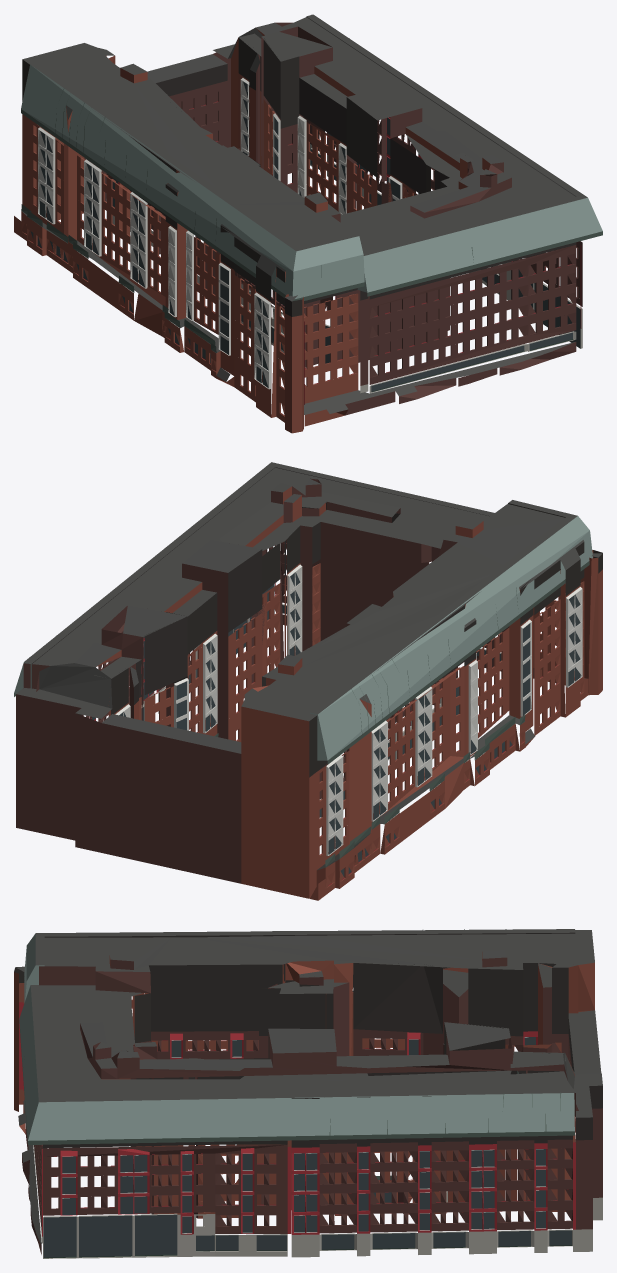
File: pieter-de-hoochstraat-13.lod1.glb
3 renders of one model, top to bottom at view 1: azimuth 30°, elevation 25°; view 2: azimuth 150°, elevation 25°; view 3: azimuth 270°, elevation 25°, orthographic. The views are drawn at different scales.
Visible parts, largest first — view 1: pieter-de-hoochstraat-13; view 2: pieter-de-hoochstraat-13; view 3: pieter-de-hoochstraat-13.
Boxes of the visible parts, x1=… form: pieter-de-hoochstraat-13: x1=14, y1=14, x2=602, y2=433; pieter-de-hoochstraat-13: x1=14, y1=462, x2=602, y2=900; pieter-de-hoochstraat-13: x1=14, y1=929, x2=602, y2=1258.
Bounding box in the file's own units: 50.24 × 26.6 × 75.94.
